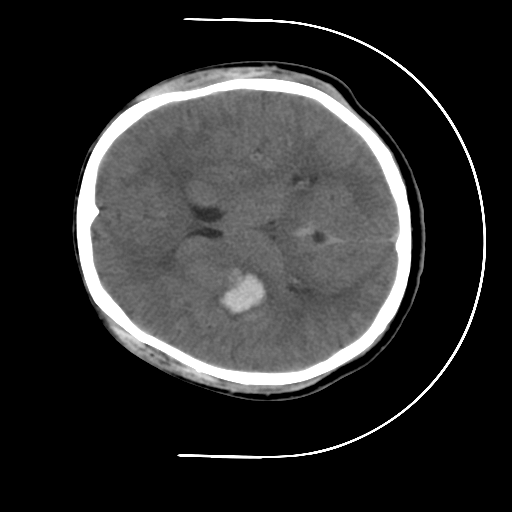a: (201, 248, 284, 329)
